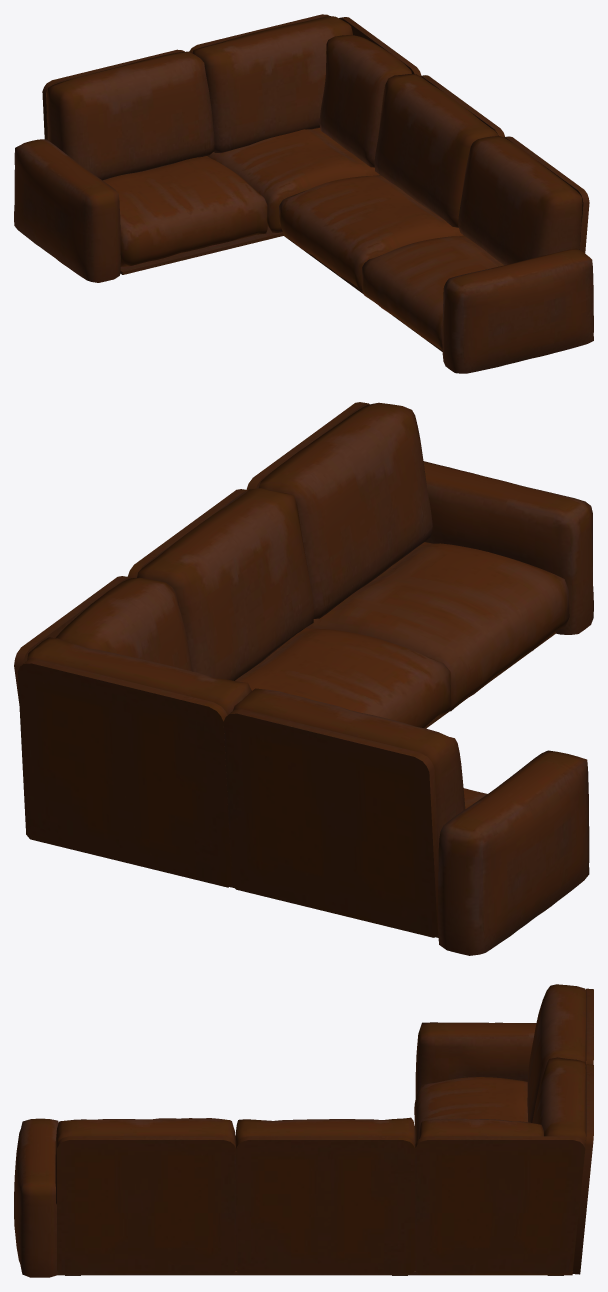
The model's file is SM_Sofa_L_01.glb.
3 renders of one model, top to bottom at view 1: azimuth 30°, elevation 25°; view 2: azimuth 150°, elevation 25°; view 3: azimuth 270°, elevation 25°, orthographic. The views are drawn at different scales.
Visible parts, largest first — view 1: SM_Sofa_L_01; view 2: SM_Sofa_L_01; view 3: SM_Sofa_L_01.
Part boxes in pixels (box(x1,y1,x2,y2)): SM_Sofa_L_01: box(14, 14, 593, 373); SM_Sofa_L_01: box(14, 402, 593, 955); SM_Sofa_L_01: box(14, 984, 593, 1277).
Size of the model in its own units: 2.74 by 1.1 by 3.84.
1 material, 1 textured.
